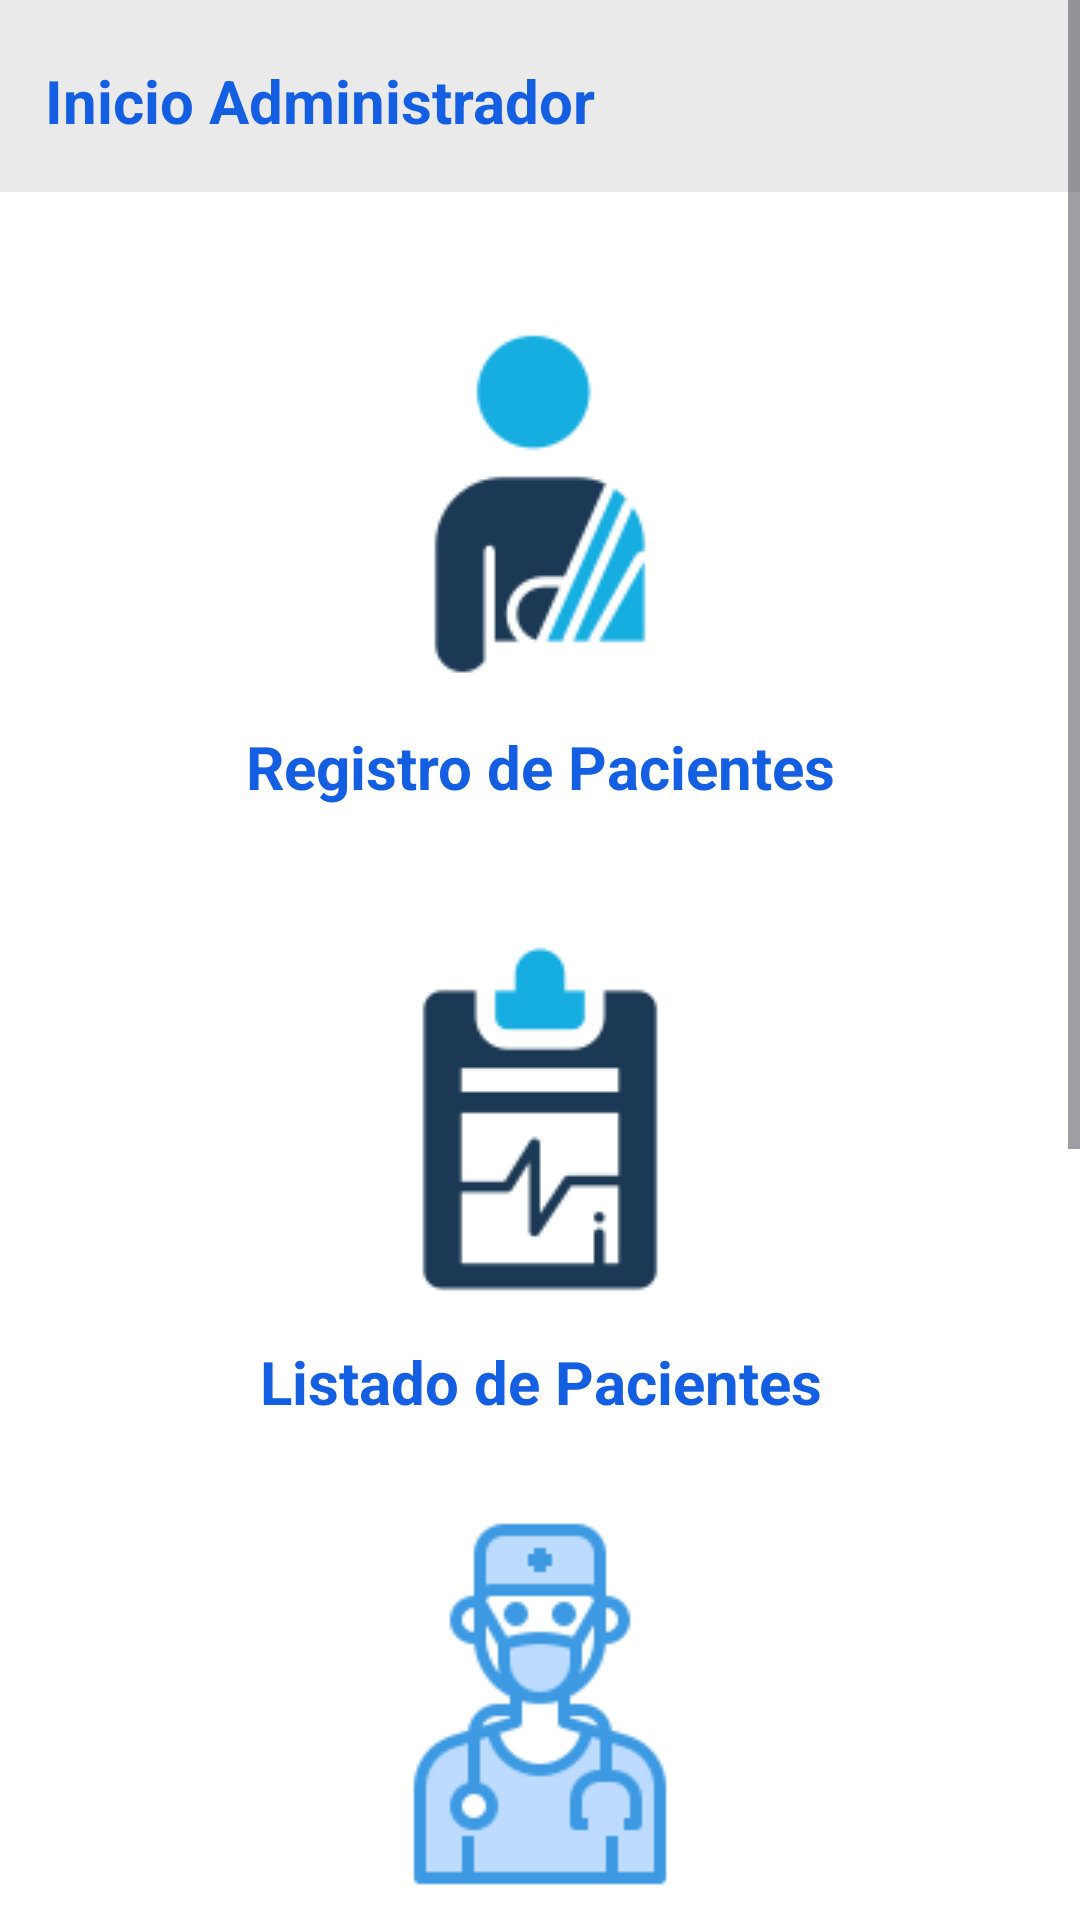

Screen size 1080 x 1920. Icon name, then its box in pixels as [x1=x1, y1=y1, x2=x2, y2=y2]:
healthcare medical hospital: [x1=422, y1=947, x2=658, y2=1291]
